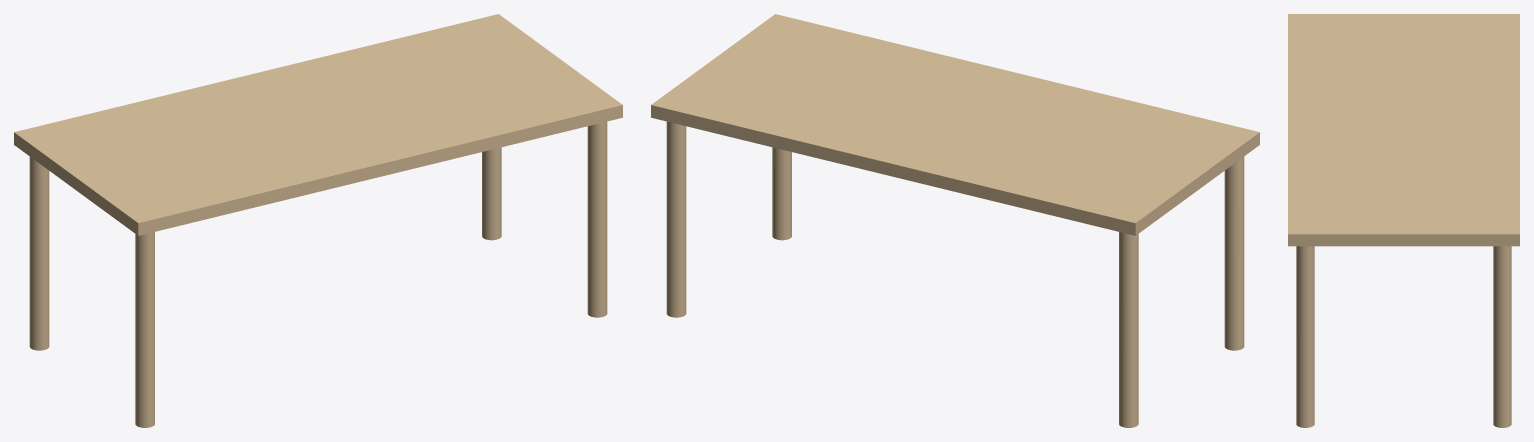
Rendered from ikea-ekedalen-89331693-g2-proxy.glb.
The picture shows the model from 3 angles, left to right: view 1: azimuth 30°, elevation 25°; view 2: azimuth 150°, elevation 25°; view 3: azimuth 270°, elevation 25°; orthographic projection. The views are drawn at different scales.
Visible parts, largest first — view 1: proxy_body, leg (×4); view 2: proxy_body, leg (×4); view 3: proxy_body, leg (×2).
Part boxes in pixels (x1,y1,x2,y2): proxy_body: (14,14,622,235); leg (×4): (29,121,607,427); proxy_body: (651,14,1259,235); leg (×4): (666,121,1244,427); proxy_body: (1288,14,1519,246); leg (×2): (1296,246,1511,427).
Size of the model in its own units: 1.8 by 0.75 by 0.8.
